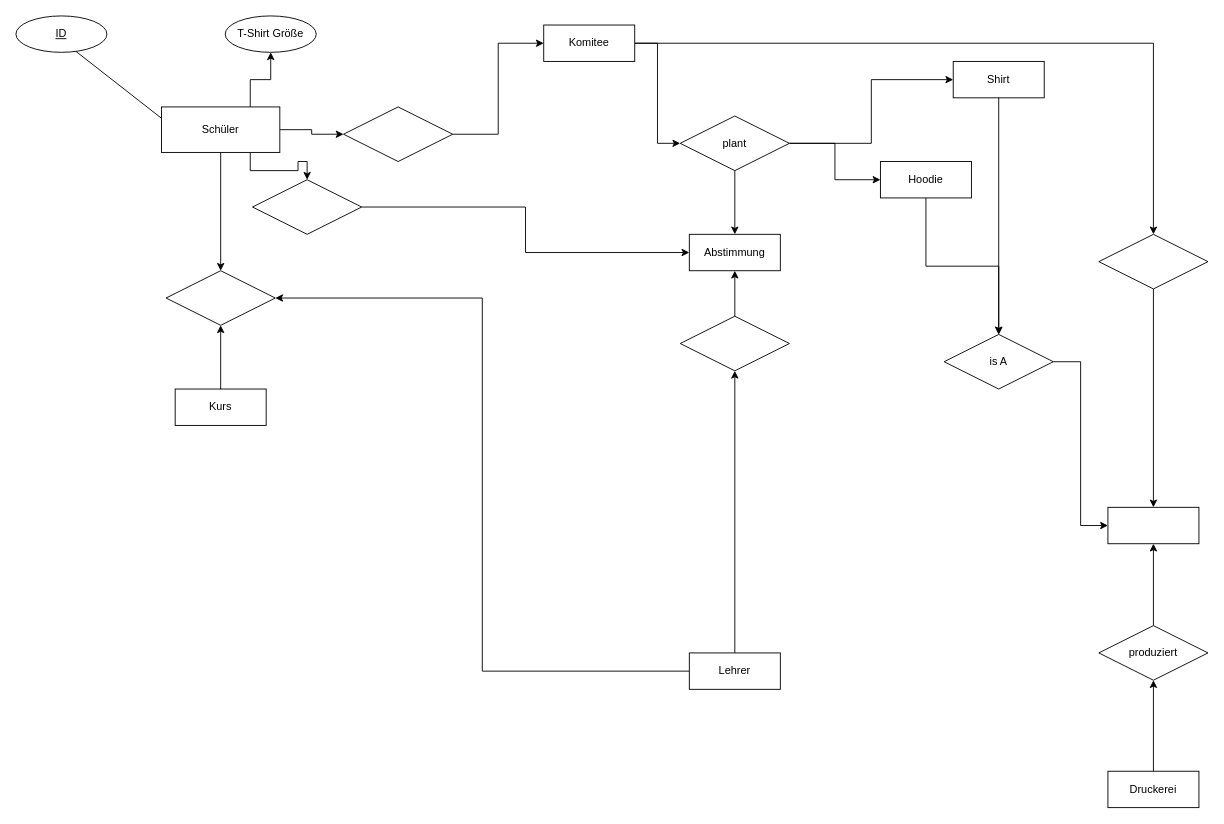
Image size: 1224x824. Some labels were removed from this diagram. The shapes that lost their labels are listed below. From the top down, each one's box as (x1, y1, x2, y2) in pixels, then its label:
(343, 106, 453, 162): ist in
(252, 179, 362, 234): nimmt Teil
(1098, 233, 1208, 289): bestellt
(165, 270, 275, 325): ist Mitglied in
(679, 315, 789, 371): wird kontrolliert
(1107, 506, 1199, 544): Produkt
